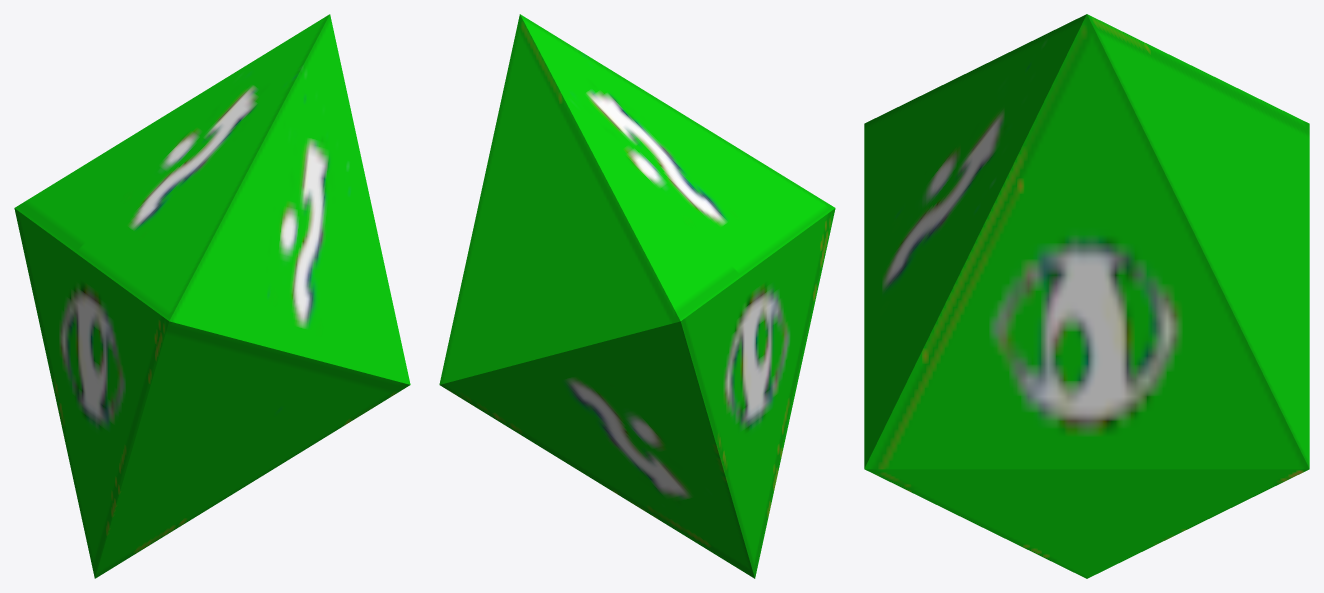
Rendered from diceDefense.glb.
The picture shows the model from 3 angles, left to right: view 1: azimuth 30°, elevation 25°; view 2: azimuth 150°, elevation 25°; view 3: azimuth 270°, elevation 25°; orthographic projection. The views are drawn at different scales.
Visible parts, largest first — view 1: Dice; view 2: Dice; view 3: Dice.
Part boxes in pixels (x1,y1,x2,y2): Dice: [14, 14, 410, 578]; Dice: [439, 14, 835, 578]; Dice: [864, 14, 1309, 578].
Size of the model in its own units: 2.12 by 4.26 by 2.36.
Materials: 1 (1 with a texture image).
